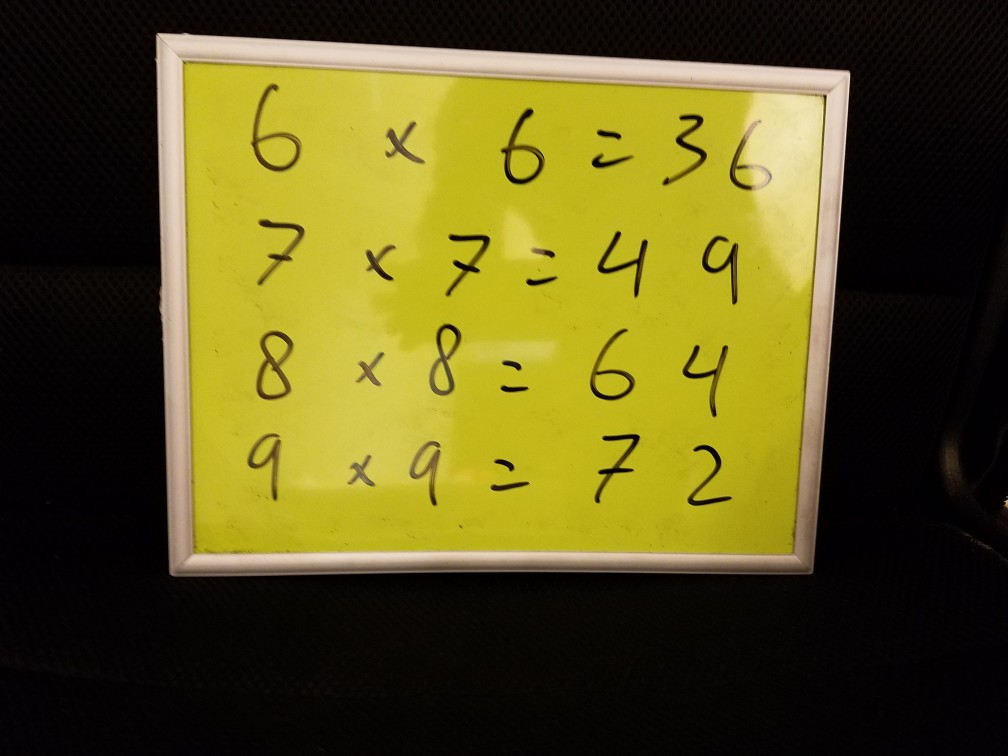2: (680, 439, 736, 516)
3: (658, 104, 712, 192)
4: (592, 222, 654, 305), (676, 336, 730, 418)
6: (244, 76, 309, 181), (495, 100, 552, 194), (580, 321, 640, 406), (724, 111, 777, 200)
7: (434, 218, 498, 306), (245, 209, 310, 294), (582, 422, 642, 510)
8: (246, 323, 303, 406), (424, 317, 465, 407)
9: (694, 228, 751, 311), (241, 428, 292, 506), (401, 432, 451, 511)
=: (515, 238, 568, 294), (586, 117, 636, 176), (482, 448, 533, 503), (491, 351, 534, 403)
x: (379, 113, 430, 173), (352, 230, 400, 287), (347, 342, 386, 393), (341, 452, 377, 495)
